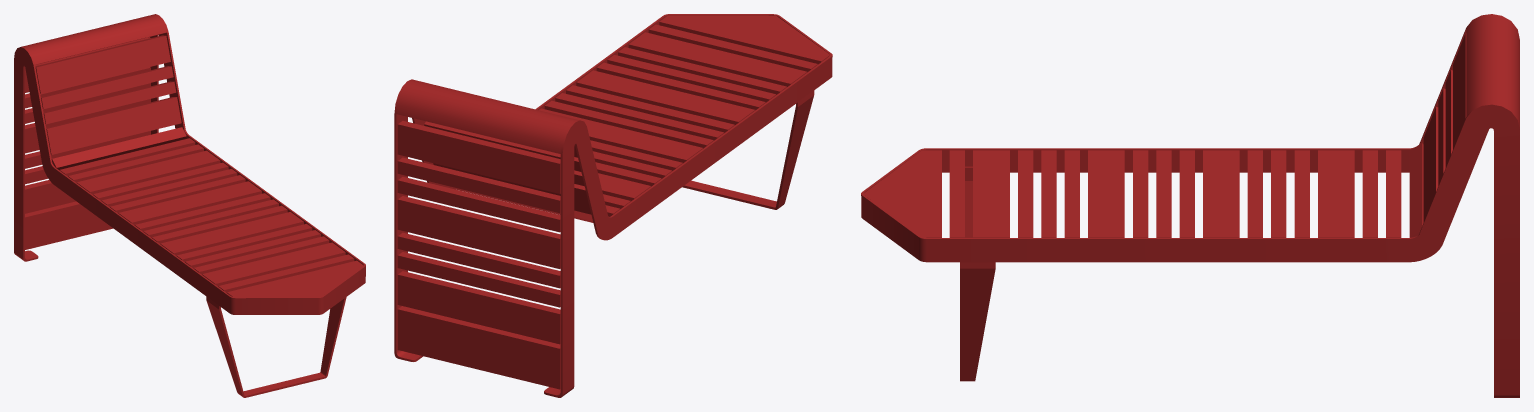
3 renders of one model, left to right at view 1: azimuth 30°, elevation 25°; view 2: azimuth 150°, elevation 25°; view 3: azimuth 270°, elevation 25°, orthographic. The views are drawn at different scales.
Visible parts, largest first — view 1: SM_426; view 2: SM_426; view 3: SM_426.
Part boxes in pixels (bbox=[...]): SM_426: bbox=[14, 14, 365, 397]; SM_426: bbox=[394, 14, 832, 397]; SM_426: bbox=[861, 14, 1519, 397].
Size of the model in its own units: 0.5669 by 0.8595 by 1.74.
